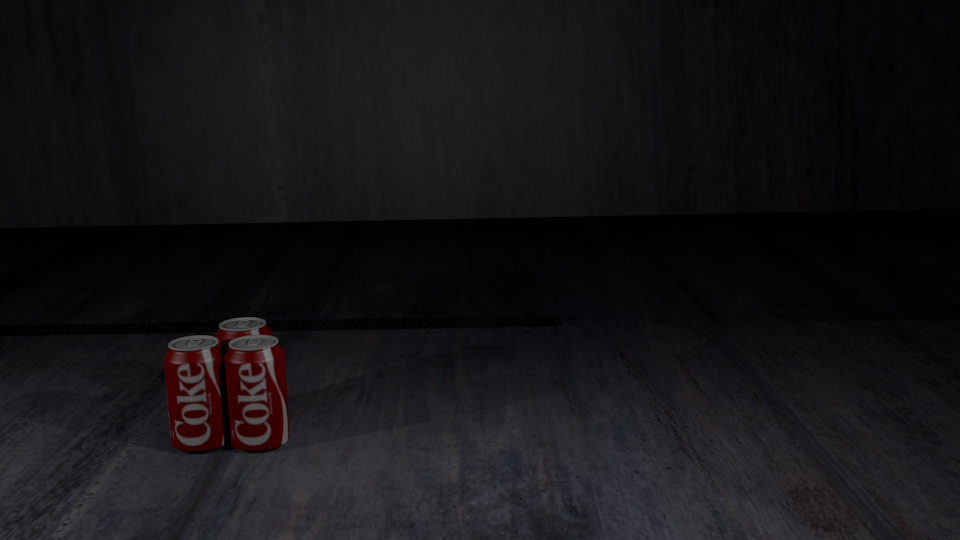cola_can: (164, 336, 227, 448), (224, 335, 286, 446), (215, 317, 270, 424)
